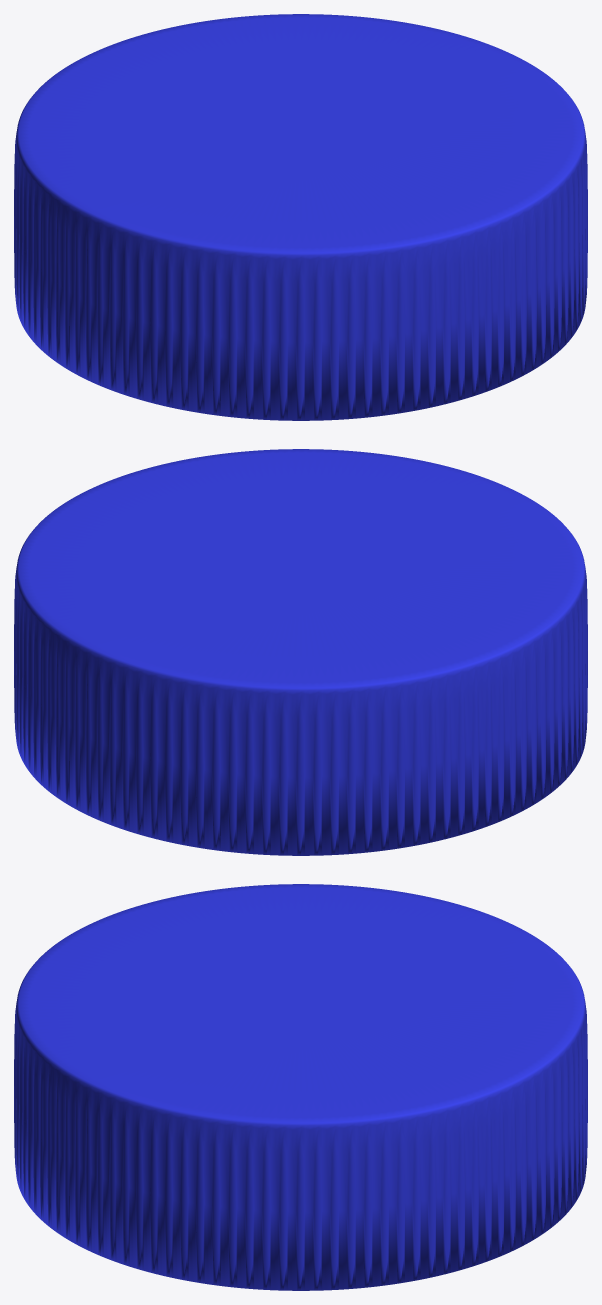
Rendered from Tutup_Botol.fbx.
The picture shows the model from 3 angles, top to bottom: view 1: azimuth 30°, elevation 25°; view 2: azimuth 150°, elevation 25°; view 3: azimuth 270°, elevation 25°; orthographic projection.
Visible parts, largest first — view 1: Cylinder; view 2: Cylinder; view 3: Cylinder.
Boxes of the visible parts, box(x1,y1,x2,y2) form: Cylinder: box(14, 14, 587, 420); Cylinder: box(14, 449, 587, 855); Cylinder: box(14, 884, 587, 1290).
Bounding box in the file's own units: 201 × 65 × 201.
